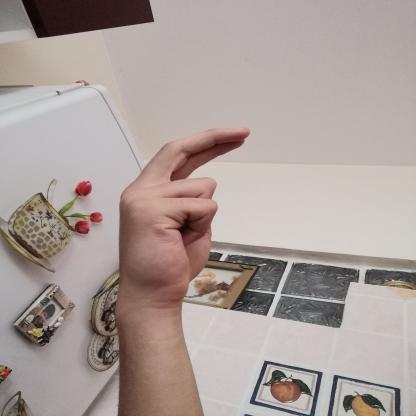ZAY: (103, 119, 261, 310)
